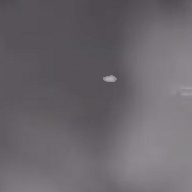Target: (103, 75, 117, 82)
